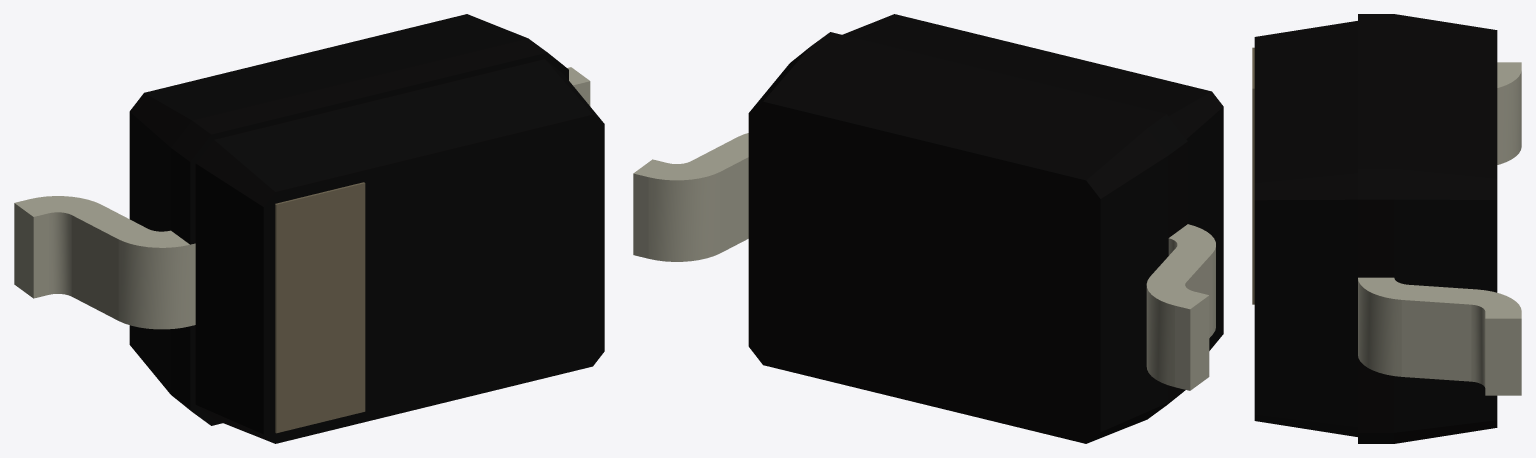
File: d_sod-323.glb
3 views of the same model, side by side, from view 1: azimuth 30°, elevation 25°; view 2: azimuth 150°, elevation 25°; view 3: azimuth 270°, elevation 25° (orthographic). The views are drawn at different scales.
Parts seen in each view (by area): view 1: D_SOD-323; view 2: D_SOD-323; view 3: D_SOD-323.
Boxes of the visible parts, bbox=[...] form: D_SOD-323: bbox=[14, 14, 604, 443]; D_SOD-323: bbox=[633, 14, 1223, 443]; D_SOD-323: bbox=[1252, 14, 1521, 443].
Bounding box in the file's own units: 2.5 × 1.25 × 1.11.
